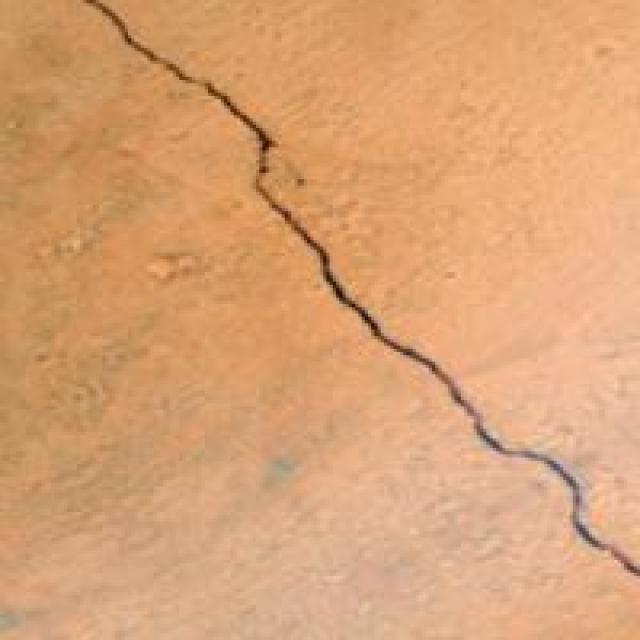Crack: (89, 0, 636, 573)
